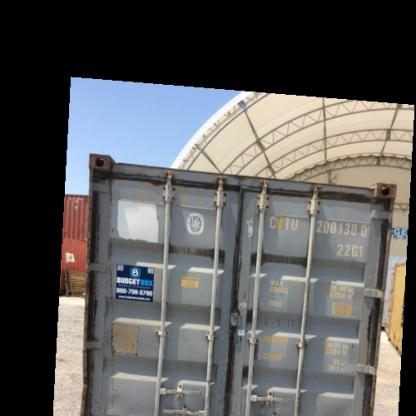Damage: (86, 232, 122, 407), (88, 156, 170, 197), (311, 178, 399, 202), (362, 291, 376, 379), (166, 237, 214, 261), (257, 301, 297, 329), (273, 242, 303, 271)
